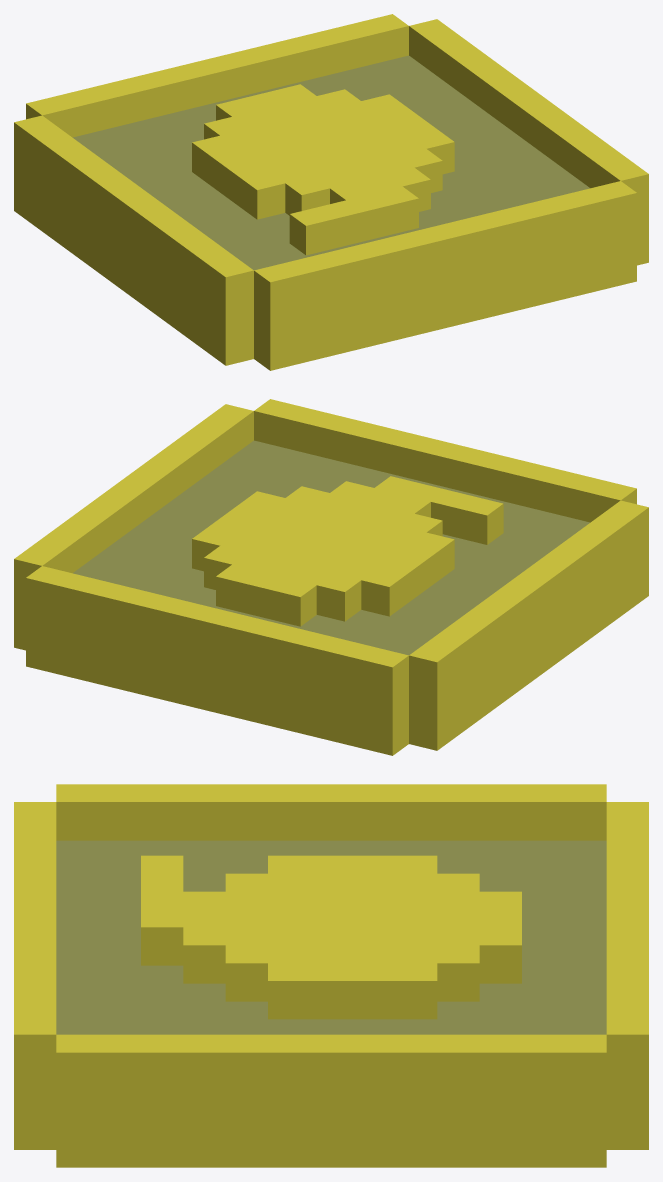
The model's file is powerup_num.fbx.
3 views of the same model, one above another, from view 1: azimuth 30°, elevation 25°; view 2: azimuth 150°, elevation 25°; view 3: azimuth 270°, elevation 25° (orthographic). The views are drawn at different scales.
Visible parts, largest first — view 1: powerup_num; view 2: powerup_num; view 3: powerup_num.
Part boxes in pixels (bbox=[...]): powerup_num: bbox=[14, 14, 648, 370]; powerup_num: bbox=[14, 399, 648, 755]; powerup_num: bbox=[14, 784, 648, 1167].
Size of the model in its own units: 150 by 30 by 150.
